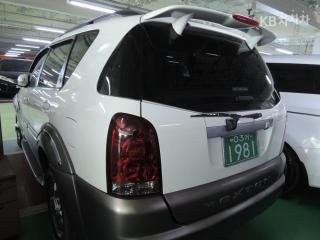0: (233, 136, 239, 143)
1: (226, 144, 234, 164), (250, 141, 257, 158)
3: (239, 135, 244, 142)
8: (242, 143, 250, 158)
9: (234, 143, 243, 162)
plate: (217, 128, 262, 170)
거: (244, 133, 251, 141)
